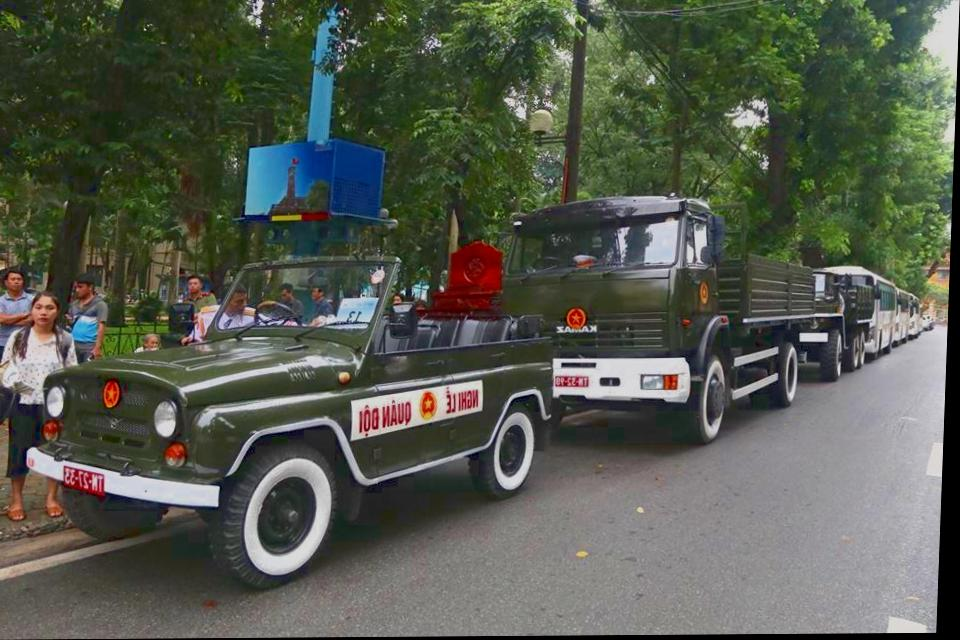License_Plate: (59, 461, 112, 501), (545, 373, 590, 396)
